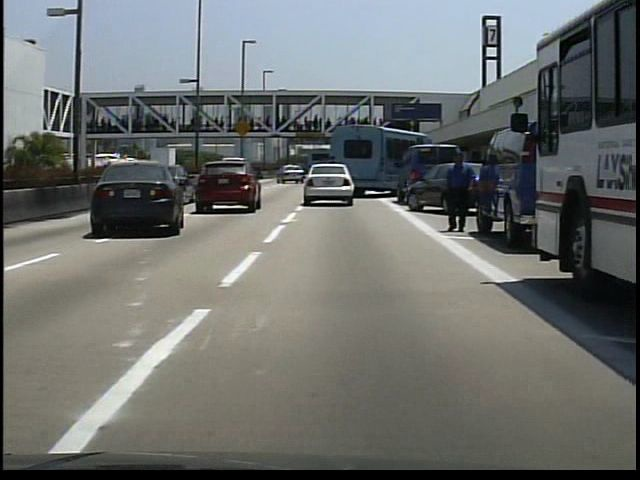person: (439, 151, 483, 239)
